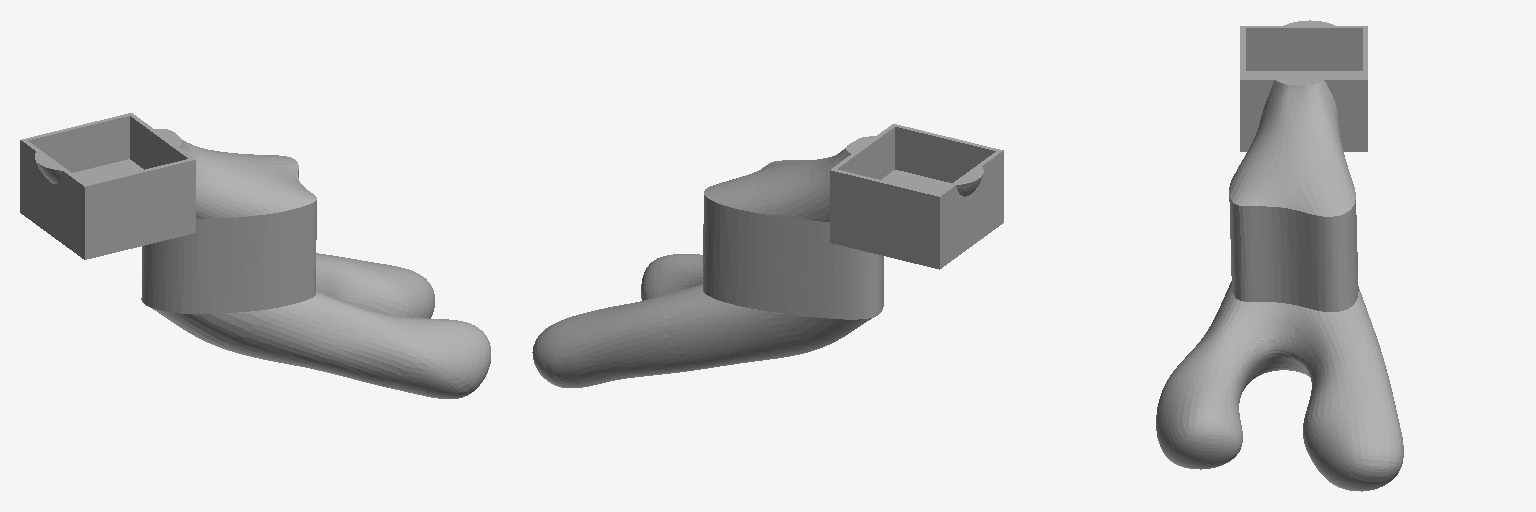
robot.urdf — FrogBot3_top-FrogBot3-z-8_bottom-FrogBot3-z-8:
<?xml version="1.0" ?>
<robot name="FrogBot3_top-FrogBot3-z-8_bottom-FrogBot3-z-8">

<material name="pla_5_percent_infill">
  <color rgba="0.700 0.700 0.700 1.000"/>
</material>

<link name="base_link">
  <inertial>
    <origin xyz="0 0 0" rpy="0 0 0"/>
    <mass value="1.5419899792307459"/>
    <inertia ixx="0.0054836076661745285" iyy="0.013703915460827342" izz="0.013742849788882953" ixy="5.961000823851627e-05" iyz="4.9944941207841843e-05" ixz="-0.0023657822822012154"/>
  </inertial>
  <visual>
    <origin xyz="0 0 0" rpy="0 0 0"/>
    <geometry>
      <mesh filename="simple_meshes/base_link.stl" scale="0.001 0.001 0.001"/>
    </geometry>
    <material name="pla_5_percent_infill"/>
  </visual>
  <collision>
    <origin xyz="0 0 0" rpy="0 0 0"/>
    <geometry>
      <mesh filename="simple_meshes/base_link.stl" scale="0.001 0.001 0.001"/>
    </geometry>
  </collision>
</link>

<link name="body_1_0_1">
  <inertial>
    <origin xyz="-0.065859 -0.113451 -0.001976" rpy="0 0 0"/>
    <mass value="0.05564796934521337"/>
    <inertia ixx="6.5836224945229e-05" iyy="8.403761047891145e-05" izz="3.0625960998279704e-05" ixy="3.8020194863741183e-06" iyz="5.45925674484552e-06" ixz="-2.057872433246802e-05"/>
  </inertial>
  <visual>
    <origin xyz="-0.065859 -0.113451 -0.001976" rpy="0 0 0"/>
    <geometry>
      <mesh filename="simple_meshes/body_1_0_1.stl" scale="0.001 0.001 0.001"/>
    </geometry>
    <material name="pla_5_percent_infill"/>
  </visual>
  <collision>
    <origin xyz="-0.065859 -0.113451 -0.001976" rpy="0 0 0"/>
    <geometry>
      <mesh filename="simple_meshes/body_1_0_1.stl" scale="0.001 0.001 0.001"/>
    </geometry>
  </collision>
</link>

<link name="body_1_1_1">
  <inertial>
    <origin xyz="0.083929 -0.113451 -0.010696" rpy="0 0 0"/>
    <mass value="0.08591098884425104"/>
    <inertia ixx="9.804670326154239e-05" iyy="0.00014699258473094496" izz="6.898786735200831e-05" ixy="7.039455739848771e-06" iyz="1.3495769246966668e-05" ixz="-3.4457566977377915e-05"/>
  </inertial>
  <visual>
    <origin xyz="0.083929 -0.113451 -0.010696" rpy="0 0 0"/>
    <geometry>
      <mesh filename="simple_meshes/body_1_1_1.stl" scale="0.001 0.001 0.001"/>
    </geometry>
    <material name="pla_5_percent_infill"/>
  </visual>
  <collision>
    <origin xyz="0.083929 -0.113451 -0.010696" rpy="0 0 0"/>
    <geometry>
      <mesh filename="simple_meshes/body_1_1_1.stl" scale="0.001 0.001 0.001"/>
    </geometry>
  </collision>
</link>

<link name="body_1_2_1">
  <inertial>
    <origin xyz="-0.060736 0.113451 -0.005366" rpy="0 0 0"/>
    <mass value="0.057758670438018606"/>
    <inertia ixx="7.189492376115012e-05" iyy="8.867266675629569e-05" izz="3.0164958120756187e-05" ixy="-3.791997283521286e-06" iyz="-7.766277827859981e-06" ixz="-2.142010944817754e-05"/>
  </inertial>
  <visual>
    <origin xyz="-0.060736 0.113451 -0.005366" rpy="0 0 0"/>
    <geometry>
      <mesh filename="simple_meshes/body_1_2_1.stl" scale="0.001 0.001 0.001"/>
    </geometry>
    <material name="pla_5_percent_infill"/>
  </visual>
  <collision>
    <origin xyz="-0.060736 0.113451 -0.005366" rpy="0 0 0"/>
    <geometry>
      <mesh filename="simple_meshes/body_1_2_1.stl" scale="0.001 0.001 0.001"/>
    </geometry>
  </collision>
</link>

<link name="body_1_3_1">
  <inertial>
    <origin xyz="0.093982 0.113451 -0.005431" rpy="0 0 0"/>
    <mass value="0.08907603462414063"/>
    <inertia ixx="9.245987078720062e-05" iyy="0.00013278470511056406" izz="6.308070584578338e-05" ixy="-5.405113899256773e-06" iyz="-1.2187544072497325e-05" ixz="-2.554482864688322e-05"/>
  </inertial>
  <visual>
    <origin xyz="0.093982 0.113451 -0.005431" rpy="0 0 0"/>
    <geometry>
      <mesh filename="simple_meshes/body_1_3_1.stl" scale="0.001 0.001 0.001"/>
    </geometry>
    <material name="pla_5_percent_infill"/>
  </visual>
  <collision>
    <origin xyz="0.093982 0.113451 -0.005431" rpy="0 0 0"/>
    <geometry>
      <mesh filename="simple_meshes/body_1_3_1.stl" scale="0.001 0.001 0.001"/>
    </geometry>
  </collision>
</link>

<link name="body_2_0_1">
  <inertial>
    <origin xyz="-0.026166 -0.164707 0.122895" rpy="0 0 0"/>
    <mass value="0.11666822220270685"/>
    <inertia ixx="0.0001408532731485227" iyy="0.0002702862367995676" izz="0.00021232104429767893" ixy="3.3064330777685374e-06" iyz="-5.086843345917472e-06" ixz="0.00010384002372624017"/>
  </inertial>
  <visual>
    <origin xyz="-0.026166 -0.164707 0.122895" rpy="0 0 0"/>
    <geometry>
      <mesh filename="simple_meshes/body_2_0_1.stl" scale="0.001 0.001 0.001"/>
    </geometry>
    <material name="pla_5_percent_infill"/>
  </visual>
  <collision>
    <origin xyz="-0.026166 -0.164707 0.122895" rpy="0 0 0"/>
    <geometry>
      <mesh filename="simple_meshes/body_2_0_1.stl" scale="0.001 0.001 0.001"/>
    </geometry>
  </collision>
</link>

<link name="body_2_1_1">
  <inertial>
    <origin xyz="0.127747 -0.174737 0.122895" rpy="0 0 0"/>
    <mass value="0.09265973011828019"/>
    <inertia ixx="9.987522574384216e-05" iyy="0.00015219404165151777" izz="0.00011026855347317241" ixy="-1.0284526946529107e-05" iyz="5.546956964549207e-06" ixz="5.775615041645485e-05"/>
  </inertial>
  <visual>
    <origin xyz="0.127747 -0.174737 0.122895" rpy="0 0 0"/>
    <geometry>
      <mesh filename="simple_meshes/body_2_1_1.stl" scale="0.001 0.001 0.001"/>
    </geometry>
    <material name="pla_5_percent_infill"/>
  </visual>
  <collision>
    <origin xyz="0.127747 -0.174737 0.122895" rpy="0 0 0"/>
    <geometry>
      <mesh filename="simple_meshes/body_2_1_1.stl" scale="0.001 0.001 0.001"/>
    </geometry>
  </collision>
</link>

<link name="body_2_2_1">
  <inertial>
    <origin xyz="-0.021708 0.167525 0.122895" rpy="0 0 0"/>
    <mass value="0.11450332207854122"/>
    <inertia ixx="0.00013835949162054224" iyy="0.0002657025387735835" izz="0.00020755811914872392" ixy="2.8295613783704213e-06" iyz="-2.1426722262470055e-06" ixz="0.00010272649961498483"/>
  </inertial>
  <visual>
    <origin xyz="-0.021708 0.167525 0.122895" rpy="0 0 0"/>
    <geometry>
      <mesh filename="simple_meshes/body_2_2_1.stl" scale="0.001 0.001 0.001"/>
    </geometry>
    <material name="pla_5_percent_infill"/>
  </visual>
  <collision>
    <origin xyz="-0.021708 0.167525 0.122895" rpy="0 0 0"/>
    <geometry>
      <mesh filename="simple_meshes/body_2_2_1.stl" scale="0.001 0.001 0.001"/>
    </geometry>
  </collision>
</link>

<link name="body_2_3_1">
  <inertial>
    <origin xyz="0.128136 0.172985 0.122895" rpy="0 0 0"/>
    <mass value="0.08762500115892546"/>
    <inertia ixx="9.83623069934136e-05" iyy="0.00014222371183687278" izz="0.00010712443867612982" ixy="8.457859211246982e-06" iyz="-6.993147784279015e-06" ixz="5.2715166949621715e-05"/>
  </inertial>
  <visual>
    <origin xyz="0.128136 0.172985 0.122895" rpy="0 0 0"/>
    <geometry>
      <mesh filename="simple_meshes/body_2_3_1.stl" scale="0.001 0.001 0.001"/>
    </geometry>
    <material name="pla_5_percent_infill"/>
  </visual>
  <collision>
    <origin xyz="0.128136 0.172985 0.122895" rpy="0 0 0"/>
    <geometry>
      <mesh filename="simple_meshes/body_2_3_1.stl" scale="0.001 0.001 0.001"/>
    </geometry>
  </collision>
</link>

<joint name="joint_1_0" type="revolute">
  <origin xyz="0.065859 0.113451 0.001976" rpy="0 0 0"/>
  <parent link="base_link"/>
  <child link="body_1_0_1"/>
  <axis xyz="0.0 1.0 0.0"/>
  <limit upper="1.2" lower="-1.2" effort="3.8" velocity="5.4"/>
</joint>
<transmission name="joint_1_0_tran">
  <type>transmission_interface/SimpleTransmission</type>
  <joint name="joint_1_0">
    <hardwareInterface>PositionJointInterface</hardwareInterface>
  </joint>
  <actuator name="joint_1_0_actr">
    <hardwareInterface>PositionJointInterface</hardwareInterface>
    <mechanicalReduction>1</mechanicalReduction>
  </actuator>
</transmission>

<joint name="joint_1_1" type="revolute">
  <origin xyz="-0.083929 0.113451 0.010696" rpy="0 0 0"/>
  <parent link="base_link"/>
  <child link="body_1_1_1"/>
  <axis xyz="0.0 1.0 0.0"/>
  <limit upper="1.2" lower="-1.2" effort="3.8" velocity="5.4"/>
</joint>
<transmission name="joint_1_1_tran">
  <type>transmission_interface/SimpleTransmission</type>
  <joint name="joint_1_1">
    <hardwareInterface>PositionJointInterface</hardwareInterface>
  </joint>
  <actuator name="joint_1_1_actr">
    <hardwareInterface>PositionJointInterface</hardwareInterface>
    <mechanicalReduction>1</mechanicalReduction>
  </actuator>
</transmission>

<joint name="joint_1_2" type="revolute">
  <origin xyz="0.060736 -0.113451 0.005366" rpy="0 0 0"/>
  <parent link="base_link"/>
  <child link="body_1_2_1"/>
  <axis xyz="0.0 1.0 0.0"/>
  <limit upper="1.2" lower="-1.2" effort="3.8" velocity="5.4"/>
</joint>
<transmission name="joint_1_2_tran">
  <type>transmission_interface/SimpleTransmission</type>
  <joint name="joint_1_2">
    <hardwareInterface>PositionJointInterface</hardwareInterface>
  </joint>
  <actuator name="joint_1_2_actr">
    <hardwareInterface>PositionJointInterface</hardwareInterface>
    <mechanicalReduction>1</mechanicalReduction>
  </actuator>
</transmission>

<joint name="joint_1_3" type="revolute">
  <origin xyz="-0.093982 -0.113451 0.005431" rpy="0 0 0"/>
  <parent link="base_link"/>
  <child link="body_1_3_1"/>
  <axis xyz="0.0 1.0 0.0"/>
  <limit upper="1.2" lower="-1.2" effort="3.8" velocity="5.4"/>
</joint>
<transmission name="joint_1_3_tran">
  <type>transmission_interface/SimpleTransmission</type>
  <joint name="joint_1_3">
    <hardwareInterface>PositionJointInterface</hardwareInterface>
  </joint>
  <actuator name="joint_1_3_actr">
    <hardwareInterface>PositionJointInterface</hardwareInterface>
    <mechanicalReduction>1</mechanicalReduction>
  </actuator>
</transmission>

<joint name="joint_2_0" type="revolute">
  <origin xyz="-0.039693 0.051256 -0.124871" rpy="0 0 0"/>
  <parent link="body_1_0_1"/>
  <child link="body_2_0_1"/>
  <axis xyz="0.0 0.0 1.0"/>
  <limit upper="1.2" lower="-1.2" effort="3.8" velocity="5.4"/>
</joint>
<transmission name="joint_2_0_tran">
  <type>transmission_interface/SimpleTransmission</type>
  <joint name="joint_2_0">
    <hardwareInterface>PositionJointInterface</hardwareInterface>
  </joint>
  <actuator name="joint_2_0_actr">
    <hardwareInterface>PositionJointInterface</hardwareInterface>
    <mechanicalReduction>1</mechanicalReduction>
  </actuator>
</transmission>

<joint name="joint_2_1" type="revolute">
  <origin xyz="-0.043818 0.061286 -0.133591" rpy="0 0 0"/>
  <parent link="body_1_1_1"/>
  <child link="body_2_1_1"/>
  <axis xyz="0.0 0.0 1.0"/>
  <limit upper="1.2" lower="-1.2" effort="3.8" velocity="5.4"/>
</joint>
<transmission name="joint_2_1_tran">
  <type>transmission_interface/SimpleTransmission</type>
  <joint name="joint_2_1">
    <hardwareInterface>PositionJointInterface</hardwareInterface>
  </joint>
  <actuator name="joint_2_1_actr">
    <hardwareInterface>PositionJointInterface</hardwareInterface>
    <mechanicalReduction>1</mechanicalReduction>
  </actuator>
</transmission>

<joint name="joint_2_2" type="revolute">
  <origin xyz="-0.039028 -0.054074 -0.128261" rpy="0 0 0"/>
  <parent link="body_1_2_1"/>
  <child link="body_2_2_1"/>
  <axis xyz="0.0 0.0 1.0"/>
  <limit upper="1.2" lower="-1.2" effort="3.8" velocity="5.4"/>
</joint>
<transmission name="joint_2_2_tran">
  <type>transmission_interface/SimpleTransmission</type>
  <joint name="joint_2_2">
    <hardwareInterface>PositionJointInterface</hardwareInterface>
  </joint>
  <actuator name="joint_2_2_actr">
    <hardwareInterface>PositionJointInterface</hardwareInterface>
    <mechanicalReduction>1</mechanicalReduction>
  </actuator>
</transmission>

<joint name="joint_2_3" type="revolute">
  <origin xyz="-0.034154 -0.059534 -0.128326" rpy="0 0 0"/>
  <parent link="body_1_3_1"/>
  <child link="body_2_3_1"/>
  <axis xyz="0.0 0.0 1.0"/>
  <limit upper="1.2" lower="-1.2" effort="3.8" velocity="5.4"/>
</joint>
<transmission name="joint_2_3_tran">
  <type>transmission_interface/SimpleTransmission</type>
  <joint name="joint_2_3">
    <hardwareInterface>PositionJointInterface</hardwareInterface>
  </joint>
  <actuator name="joint_2_3_actr">
    <hardwareInterface>PositionJointInterface</hardwareInterface>
    <mechanicalReduction>1</mechanicalReduction>
  </actuator>
</transmission>

</robot>

--- What the picture shows (computed from the rendered views, not written in the file) ---
3 views of the same robot in one strip: view 1: azimuth 30°, elevation 25°; view 2: azimuth 150°, elevation 25°; view 3: azimuth 270°, elevation 25° (orthographic).
Robot: FrogBot3_top-FrogBot3-z-8_bottom-FrogBot3-z-8 — 9 links, 8 joints (8 revolute); root link base_link; default pose: every joint at zero.
Visible links, largest first — view 1: body_2_0_1; view 2: body_2_0_1; view 3: body_2_0_1.
Boxes of the visible links, x1=… form: body_2_0_1: x1=20, y1=113, x2=490, y2=398; body_2_0_1: x1=532, y1=124, x2=1003, y2=387; body_2_0_1: x1=1156, y1=20, x2=1403, y2=491.
Size in the robot's own frame: 0.1821 by 0.094 by 0.118 metres.
1 mesh visuals loaded from 9 distinct referenced files (1 binary STL); not drawn: 8 (reference not matched to a file when rendering).